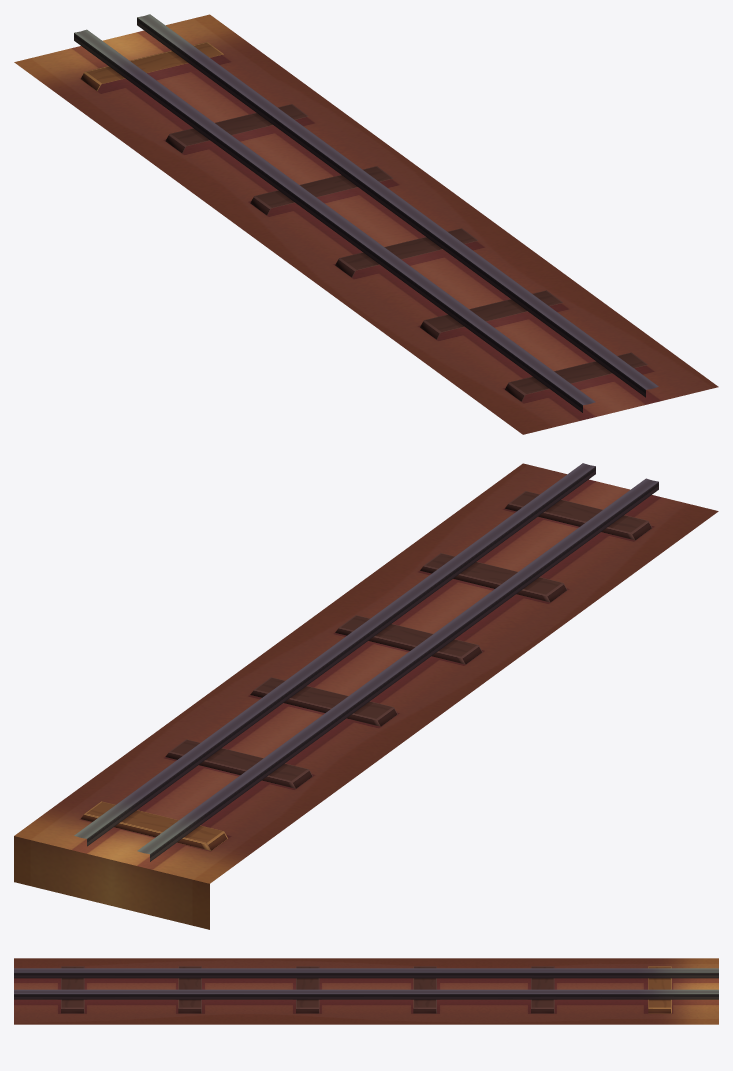
Rendered from 1.100_SanFrancisco_track_shadow_short_start.glb.
3 renders of one model, top to bottom at view 1: azimuth 30°, elevation 25°; view 2: azimuth 150°, elevation 25°; view 3: azimuth 270°, elevation 25°, orthographic. The views are drawn at different scales.
Parts seen in each view (by area): view 1: 1.100_SanFrancisco_track_shadow_short_start; view 2: 1.100_SanFrancisco_track_shadow_short_start; view 3: 1.100_SanFrancisco_track_shadow_short_start.
Part boxes in pixels (x1=…): 1.100_SanFrancisco_track_shadow_short_start: x1=14, y1=14, x2=718, y2=434; 1.100_SanFrancisco_track_shadow_short_start: x1=14, y1=463, x2=718, y2=929; 1.100_SanFrancisco_track_shadow_short_start: x1=14, y1=958, x2=718, y2=1024.
Size of the model in its own units: 20 by 5.96 by 90.
2 materials, 2 textured.
